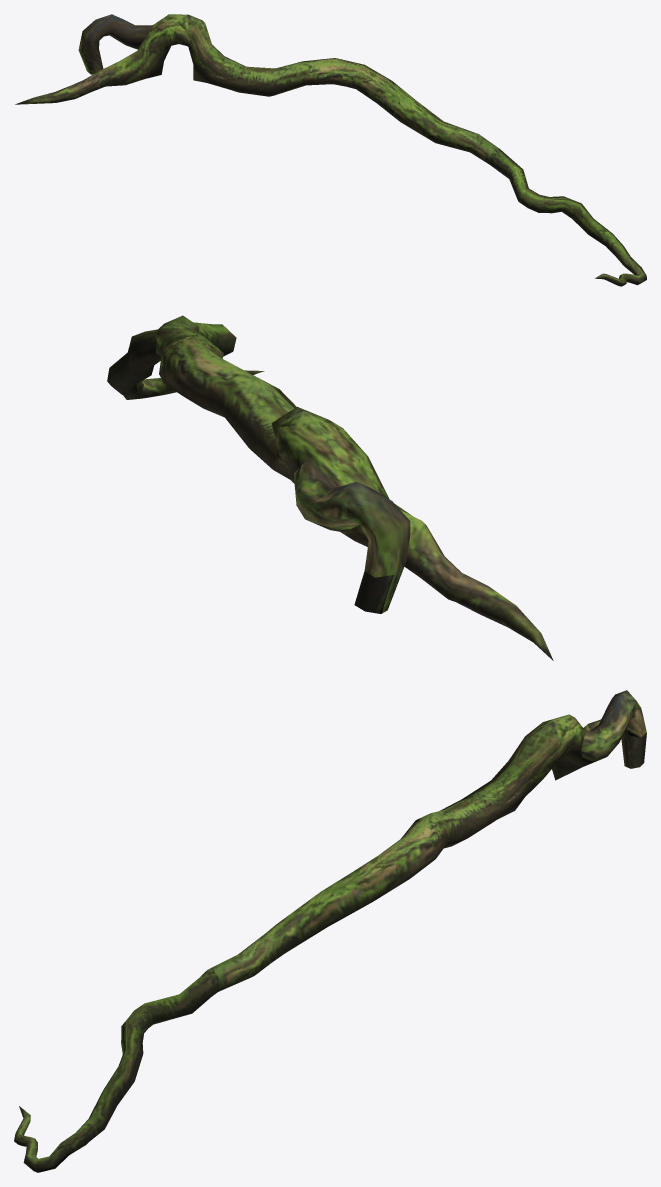
The model's file is 3004_Item_shuteng_2.FBX.
3 views of the same model, one above another, from view 1: azimuth 30°, elevation 25°; view 2: azimuth 150°, elevation 25°; view 3: azimuth 270°, elevation 25° (orthographic). The views are drawn at different scales.
Visible parts, largest first — view 1: 3004_Item_shuteng_2; view 2: 3004_Item_shuteng_2; view 3: 3004_Item_shuteng_2.
Part boxes in pixels (x1,y1,x2,y2): 3004_Item_shuteng_2: (15, 14, 646, 286); 3004_Item_shuteng_2: (107, 315, 553, 660); 3004_Item_shuteng_2: (14, 690, 646, 1172).
Size of the model in its own units: 792 by 352 by 745.
